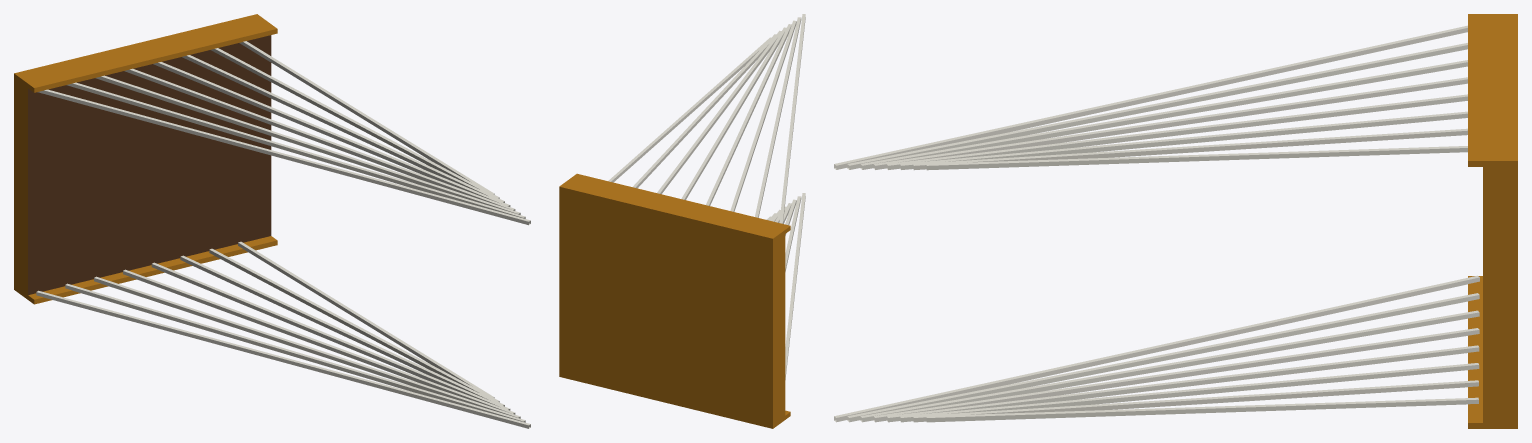
The model's file is inner_south.glb.
3 renders of one model, left to right at view 1: azimuth 30°, elevation 25°; view 2: azimuth 150°, elevation 25°; view 3: azimuth 270°, elevation 25°, orthographic. The views are drawn at different scales.
Parts seen in each view (by area): view 1: bridge_05_inner_south; view 2: bridge_05_inner_south; view 3: bridge_05_inner_south.
Boxes of the visible parts, x1,y1,x2,y2 form: bridge_05_inner_south: (14, 14, 530, 428); bridge_05_inner_south: (559, 14, 805, 428); bridge_05_inner_south: (834, 14, 1517, 428).
Size of the model in its own units: 16 by 13.6 by 31.45.
